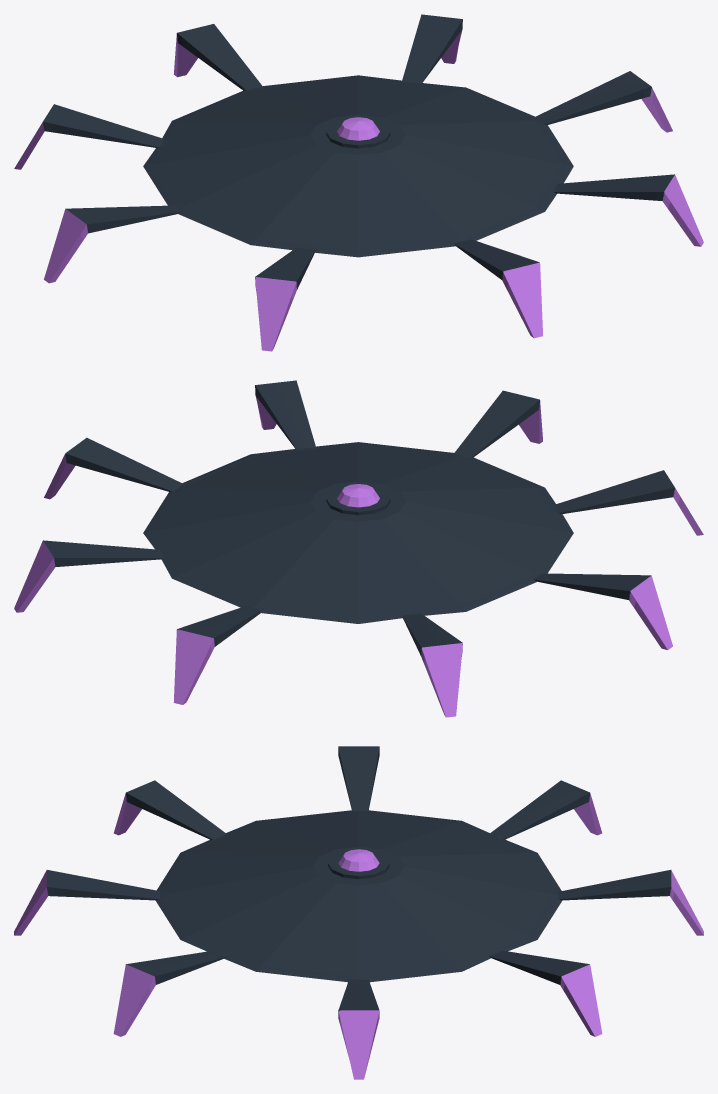
File: spider.obj
3 views of the same model, one above another, from view 1: azimuth 30°, elevation 25°; view 2: azimuth 150°, elevation 25°; view 3: azimuth 270°, elevation 25° (orthographic). The views are drawn at different scales.
Visible parts, largest first — view 1: Circle_Circle.001; view 2: Circle_Circle.001; view 3: Circle_Circle.001.
Boxes of the visible parts, x1,y1,x2,y2 form: Circle_Circle.001: [14, 14, 703, 351]; Circle_Circle.001: [14, 380, 703, 717]; Circle_Circle.001: [14, 746, 703, 1079].
Size of the model in its own units: 3.35 by 0.431 by 3.35.
1 material, 1 textured.
